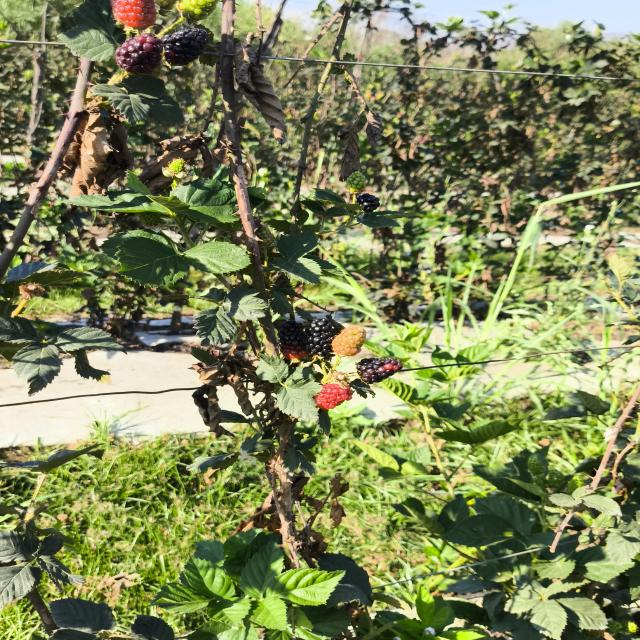maduro: (303, 318, 334, 357)
marron: (356, 357, 403, 384), (279, 320, 307, 359)
naranja: (331, 325, 366, 356), (314, 384, 353, 410)
